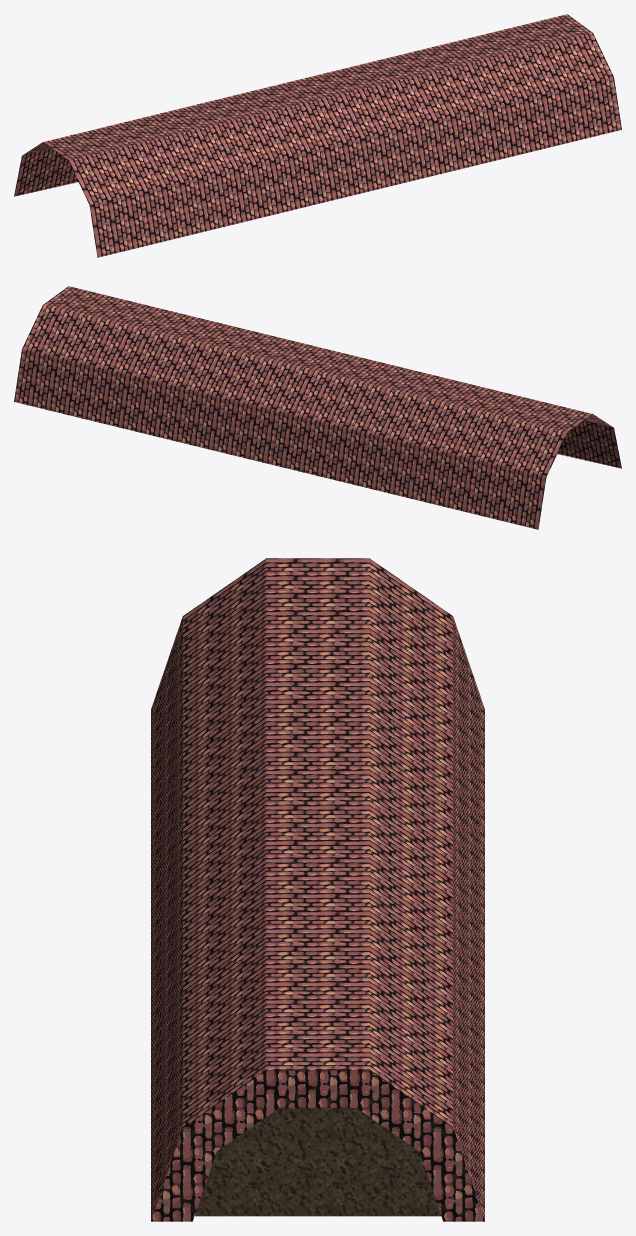
File: TallPillar.obj
3 views of the same model, one above another, from view 1: azimuth 30°, elevation 25°; view 2: azimuth 150°, elevation 25°; view 3: azimuth 270°, elevation 25° (orthographic). The views are drawn at different scales.
Parts seen in each view (by area): view 1: TallPillar; view 2: TallPillar; view 3: TallPillar.
Boxes of the visible parts, bbox=[...] form: TallPillar: bbox=[14, 14, 621, 257]; TallPillar: bbox=[14, 286, 621, 529]; TallPillar: bbox=[151, 558, 484, 1221].
Bounding box in the file's own units: 14.5 × 2 × 4.
